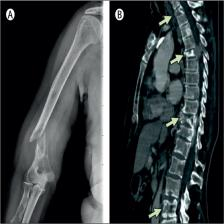pathological-fracture: (4, 0, 103, 224), (136, 1, 224, 224)
